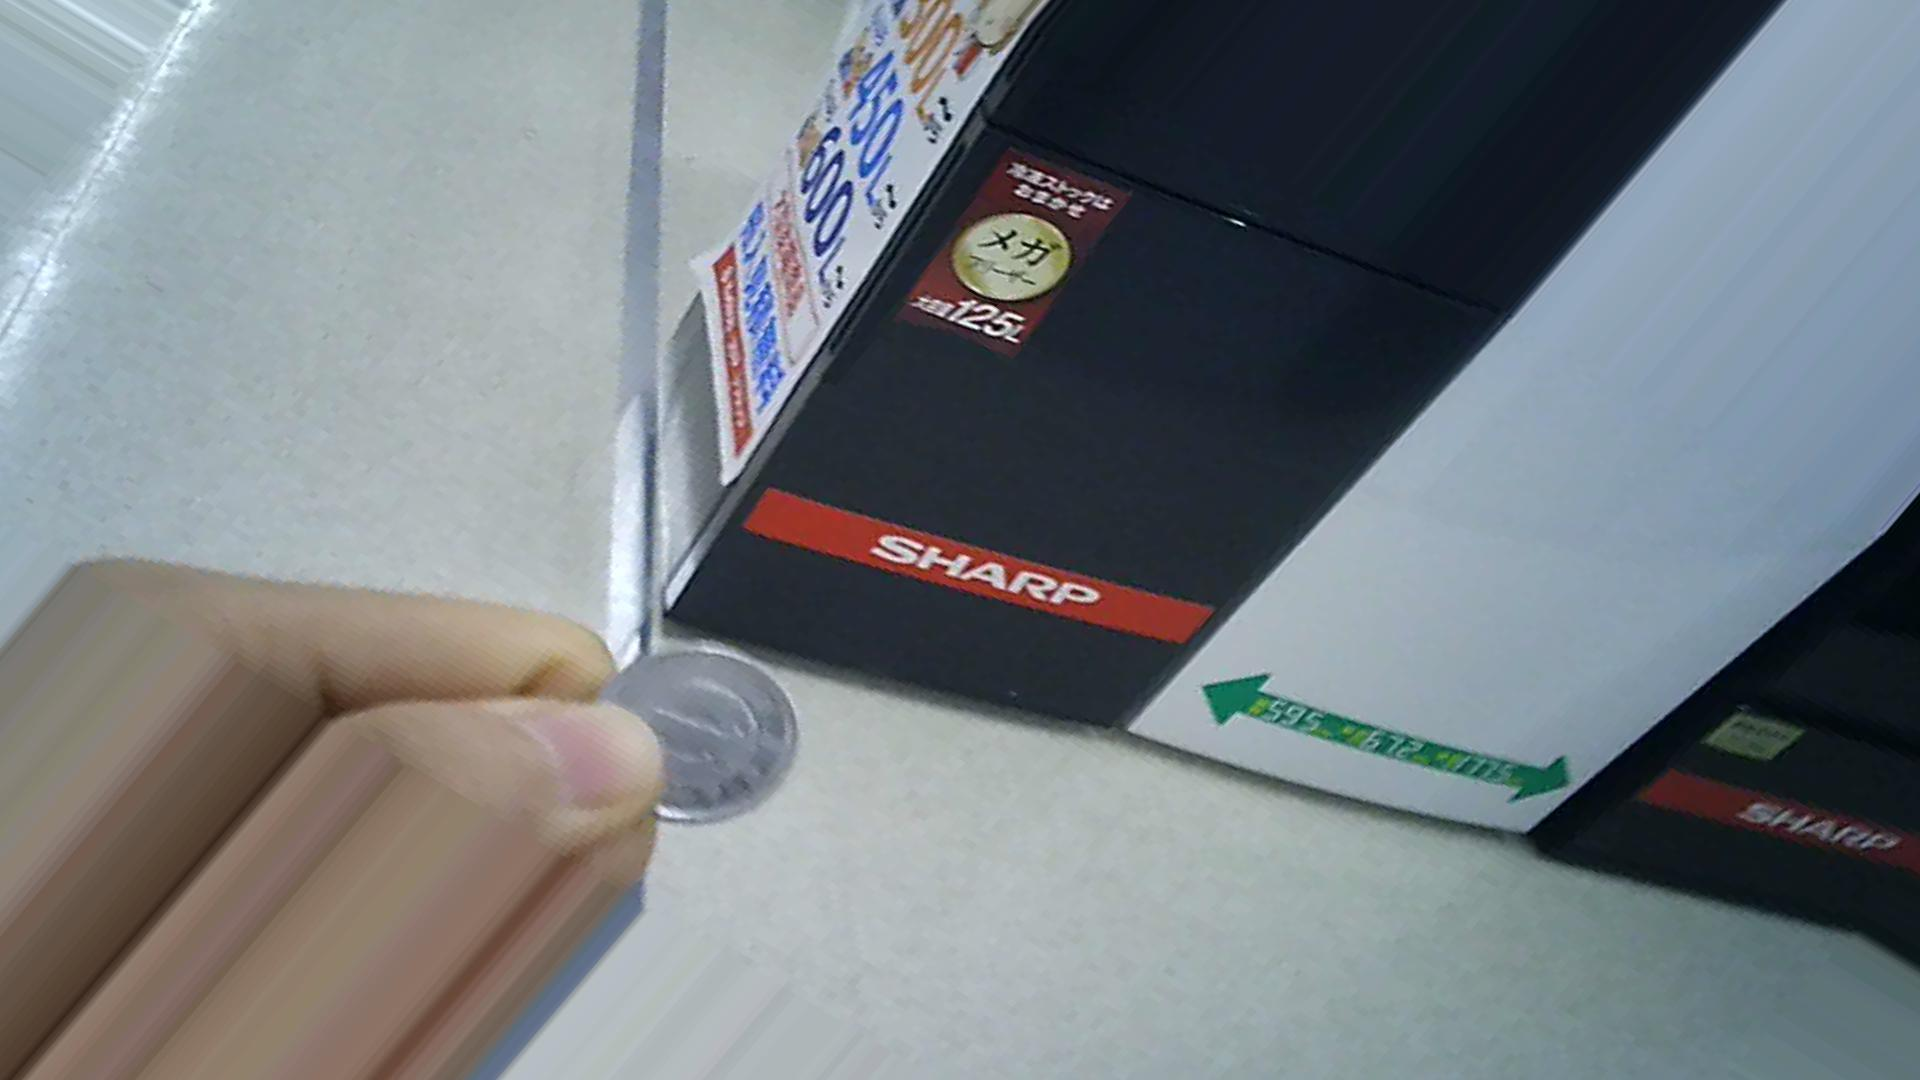1 Yen: (593, 632, 807, 833)
